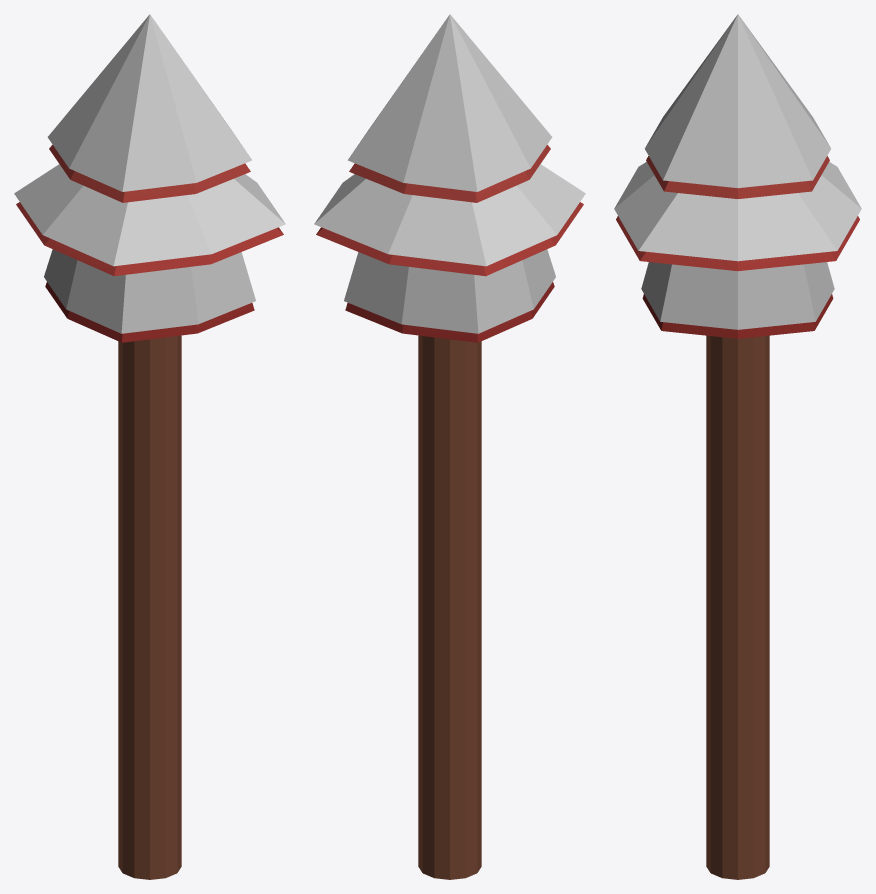
File: Tree_20_winter_gradient_red_vc.fbx
The picture shows the model from 3 angles, left to right: view 1: azimuth 30°, elevation 25°; view 2: azimuth 150°, elevation 25°; view 3: azimuth 270°, elevation 25°; orthographic projection.
Visible parts, largest first — view 1: Tree_20_winter_gradient_red_vc; view 2: Tree_20_winter_gradient_red_vc; view 3: Tree_20_winter_gradient_red_vc.
Boxes of the visible parts, bbox=[...] form: Tree_20_winter_gradient_red_vc: bbox=[14, 14, 285, 879]; Tree_20_winter_gradient_red_vc: bbox=[314, 14, 585, 879]; Tree_20_winter_gradient_red_vc: bbox=[614, 14, 861, 879].
Bounding box in the file's own units: 86.74 × 329 × 86.74.
